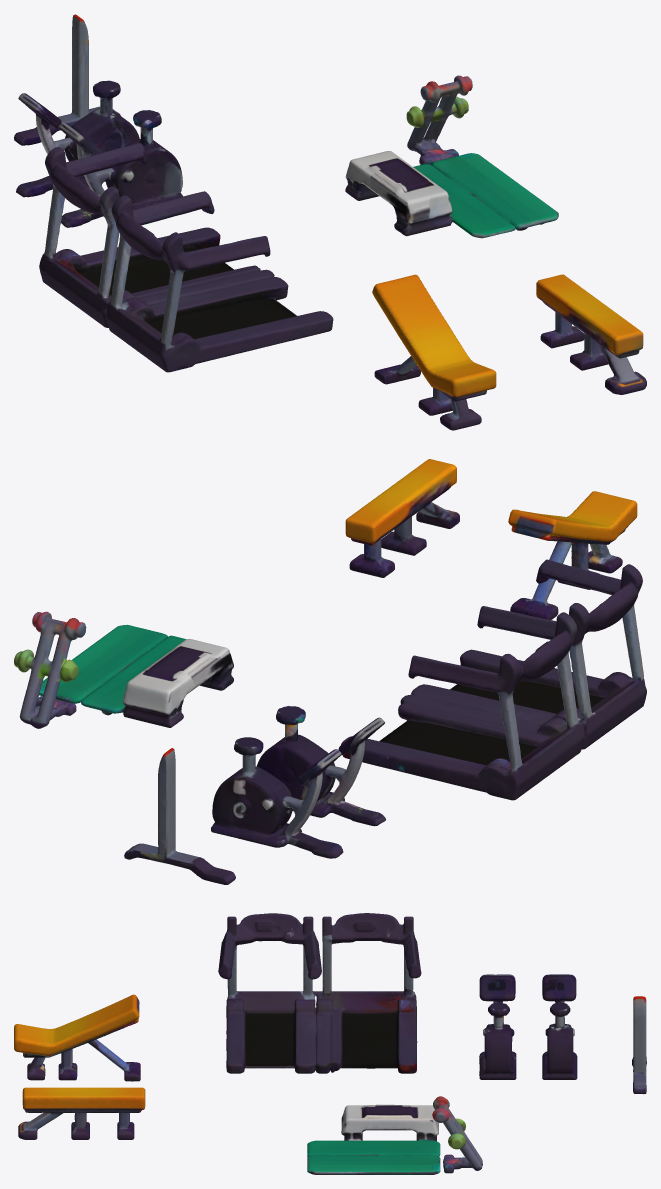
3 views of the same model, one above another, from view 1: azimuth 30°, elevation 25°; view 2: azimuth 150°, elevation 25°; view 3: azimuth 270°, elevation 25° (orthographic). The views are drawn at different scales.
Parts seen in each view (by area): view 1: tripo_node_8780f518-3e66-4dbe-96de-351d8bb33830; view 2: tripo_node_8780f518-3e66-4dbe-96de-351d8bb33830; view 3: tripo_node_8780f518-3e66-4dbe-96de-351d8bb33830.
Boxes of the visible parts, left/top/right/bottom form: tripo_node_8780f518-3e66-4dbe-96de-351d8bb33830: left=14, top=14, right=646, bottom=430; tripo_node_8780f518-3e66-4dbe-96de-351d8bb33830: left=14, top=459, right=646, bottom=884; tripo_node_8780f518-3e66-4dbe-96de-351d8bb33830: left=14, top=913, right=646, bottom=1174.
Bounding box in the file's own units: 0.6374 × 0.1795 × 1.
1 material, 1 textured.
